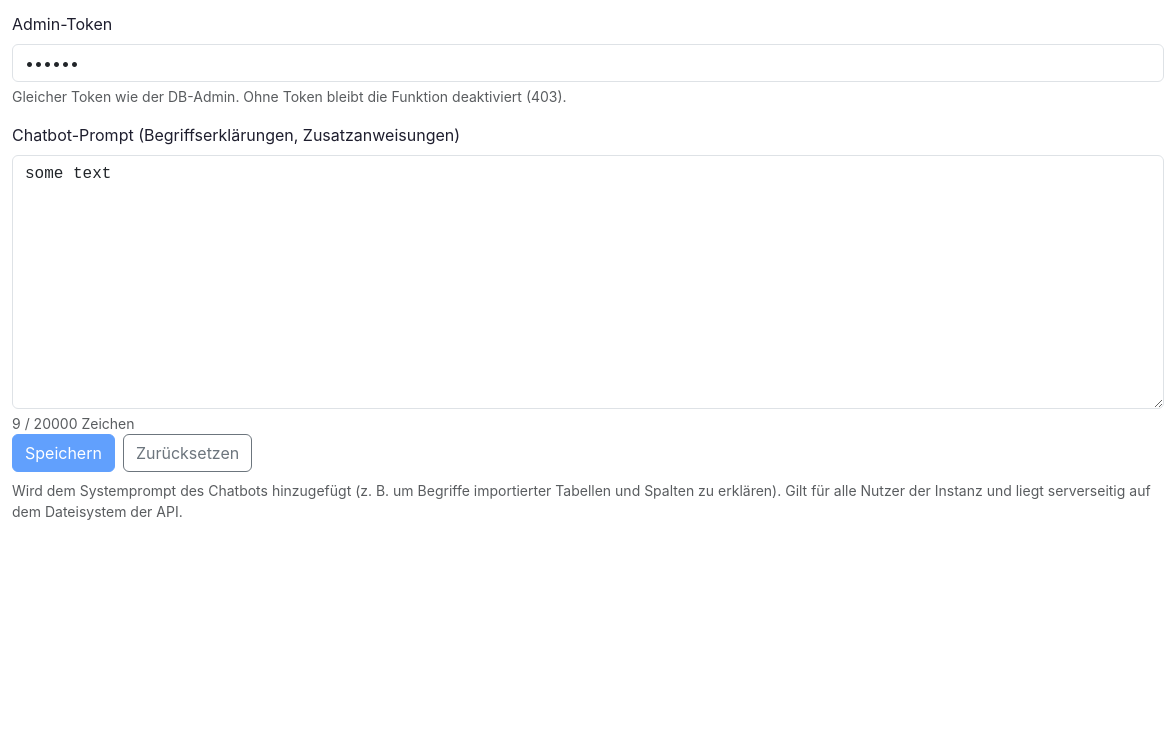
Test case: PromptTab › clears the stored prompt via Zurücksetzen (PUT with empty content)
Check: the text box labelled "Chatbot-Prompt (Begriffserklärungen, Zusatzanweisungen)" holds "some text", box [12, 155, 1164, 409]
Step 1. Click the button "Zurücksetzen" → {"x": 188, "y": 453}, box [123, 434, 252, 472]
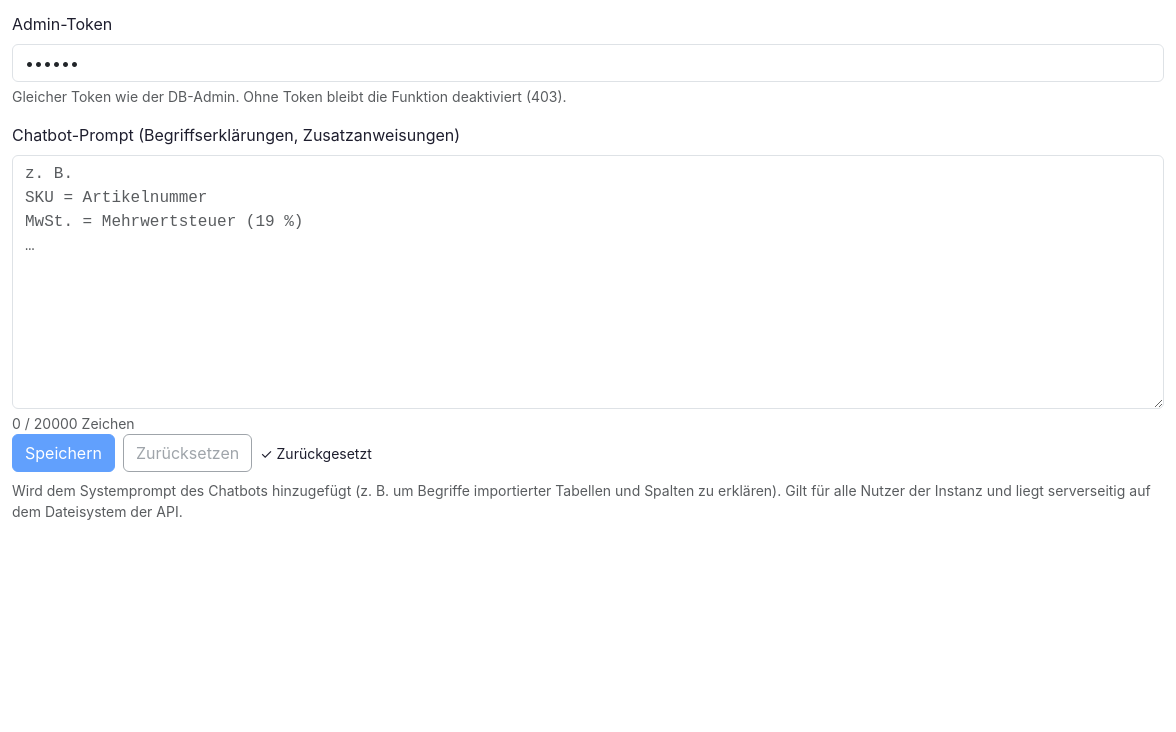
Check: the message shows "Zurückgesetzt", box [260, 444, 372, 462]
Check: the text box labelled "Chatbot-Prompt (Begriffserklärungen, Zusatzanweisungen)" is empty, box [12, 155, 1164, 409]
